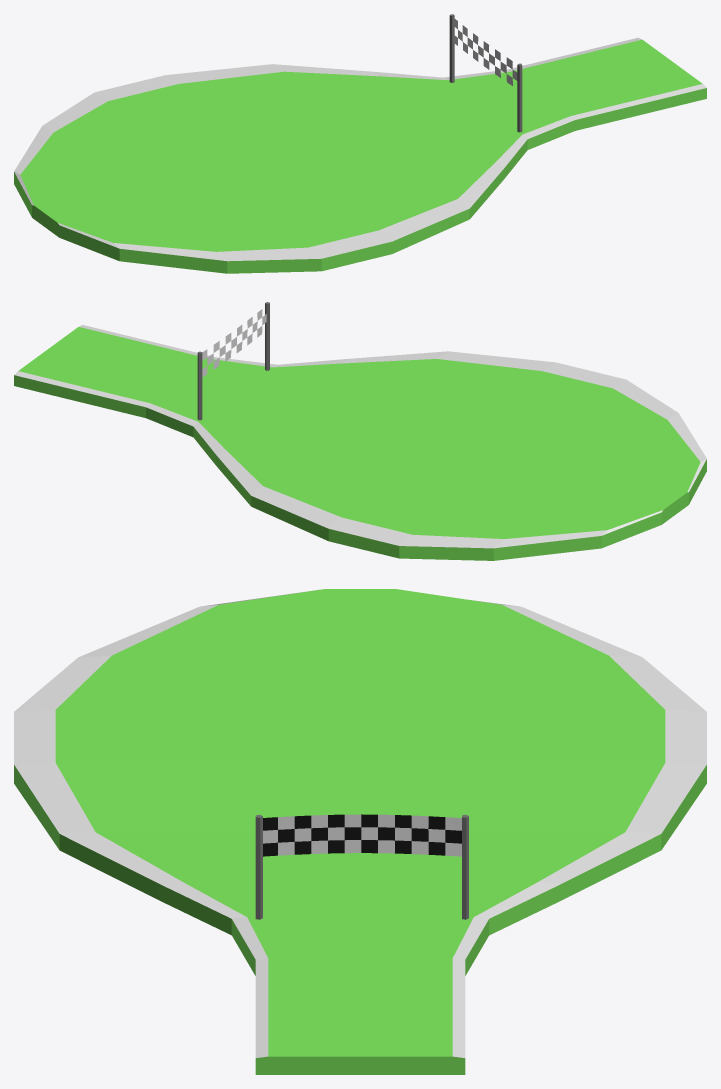
Rendered from finisharea02.fbx.
The picture shows the model from 3 angles, top to bottom: view 1: azimuth 30°, elevation 25°; view 2: azimuth 150°, elevation 25°; view 3: azimuth 270°, elevation 25°; orthographic projection. The views are drawn at different scales.
Parts seen in each view (by area): view 1: finisharea02; view 2: finisharea02; view 3: finisharea02.
Part boxes in pixels (x1=…): finisharea02: x1=14, y1=14, x2=706, y2=273; finisharea02: x1=14, y1=302, x2=706, y2=560; finisharea02: x1=14, y1=589, x2=706, y2=1074.
Size of the model in its own units: 904 by 110 by 568.
